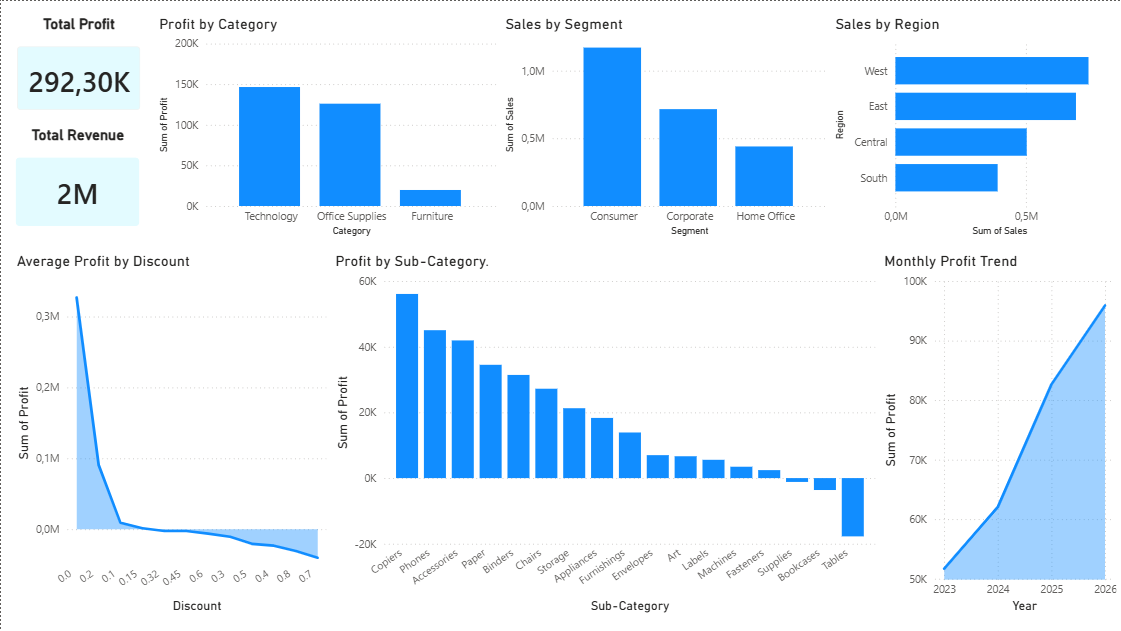

Layout of this report page (visuals, bound fields, positions):
{"tool":"powerbi","page":{"name":"Page 1","canvas":[1280,720],"ordinal":0},"visuals":[{"type":"cardVisual","title":"Total Revenue","fields":{"Data":["Sum(clean_superstore.Sales)"]},"box":[0,142.9,175.7,131.4],"z":0},{"type":"cardVisual","title":"Total Profit","fields":{"Data":["Sum(clean_superstore.Profit)"]},"box":[1.4,15.7,175.7,127.1],"z":1},{"type":"areaChart","title":"Monthly Profit Trend","fields":{"Category":["clean_superstore.Order Year-Month.Variation.Date Hierarchy.Year","clean_superstore.Order Year-Month.Variation.Date Hierarchy.Quarter","clean_superstore.Order Year-Month.Variation.Date Hierarchy.Month","clean_superstore.Order Year-Month.Variation.Date Hierarchy.Day"],"Y":["Sum(clean_superstore.Profit)"]},"box":[1004.3,287.1,275.7,417.1],"z":5},{"type":"columnChart","title":"Profit by Category","fields":{"Category":["clean_superstore.Category"],"Y":["Sum(clean_superstore.Profit)"]},"box":[175.7,15.7,395.7,258.6],"z":6},{"type":"columnChart","title":"Profit by Sub-Category.","fields":{"Y":["Sum(clean_superstore.Profit)"],"Category":["clean_superstore.Sub-Category"]},"box":[377.1,287.1,627.1,417.1],"z":7},{"type":"barChart","title":"Sales by Region","fields":{"Category":["clean_superstore.Region"],"Y":["Sum(clean_superstore.Sales)"]},"box":[948.6,15.7,331.4,258.6],"z":8},{"type":"columnChart","title":"Sales by Segment","fields":{"Y":["Sum(clean_superstore.Sales)"],"Category":["clean_superstore.Segment"]},"box":[571.4,15.7,377.1,258.6],"z":10},{"type":"areaChart","title":"Average Profit by Discount","fields":{"Category":["clean_superstore.Discount"],"Y":["Sum(clean_superstore.Profit)"]},"box":[12.9,287.1,364.3,417.1],"z":11}]}

Visuals, with their boxes in screenshot pixels (x1, y1, x2, y2), scaled from the page's 1280x720 canvas onto the 1121x631 screenshot:
"Total Revenue" cardVisual: rect(0, 125, 154, 240)
"Total Profit" cardVisual: rect(1, 14, 155, 125)
"Monthly Profit Trend" areaChart: rect(880, 252, 1120, 617)
"Profit by Category" columnChart: rect(154, 14, 500, 240)
"Profit by Sub-Category." columnChart: rect(330, 252, 879, 617)
"Sales by Region" barChart: rect(831, 14, 1120, 240)
"Sales by Segment" columnChart: rect(500, 14, 831, 240)
"Average Profit by Discount" areaChart: rect(11, 252, 330, 617)
